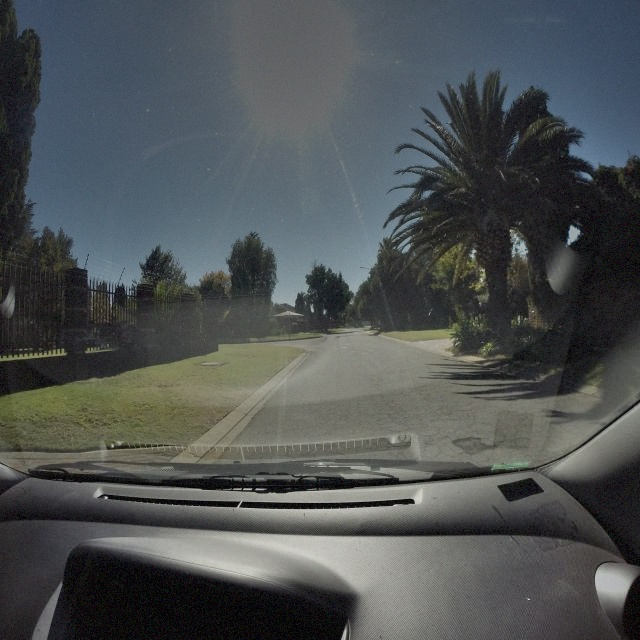pothole: (451, 432, 498, 459)
